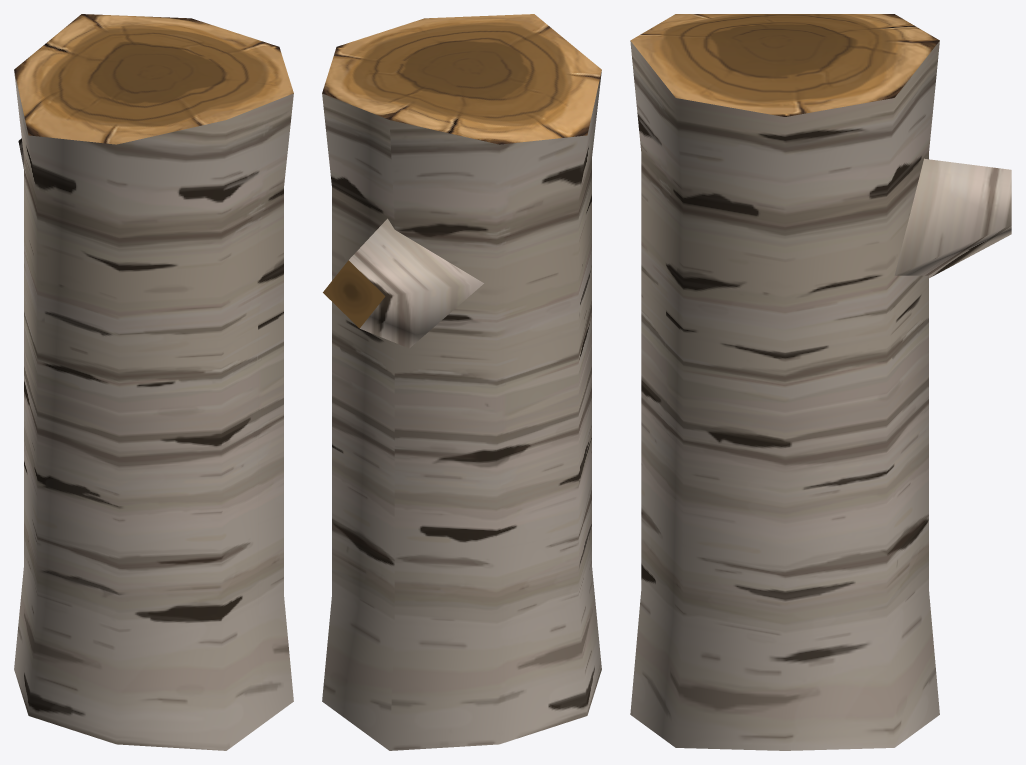
File: resource_log02_B.fbx
3 renders of one model, left to right at view 1: azimuth 30°, elevation 25°; view 2: azimuth 150°, elevation 25°; view 3: azimuth 270°, elevation 25°, orthographic. The views are drawn at different scales.
Visible parts, largest first — view 1: resource_log02_B; view 2: resource_log02_B; view 3: resource_log02_B.
Boxes of the visible parts, x1,y1,x2,y2 form: resource_log02_B: (14, 14, 293, 750); resource_log02_B: (322, 14, 601, 750); resource_log02_B: (630, 14, 1011, 750).
Bounding box in the file's own units: 43.1 × 104 × 53.08.
